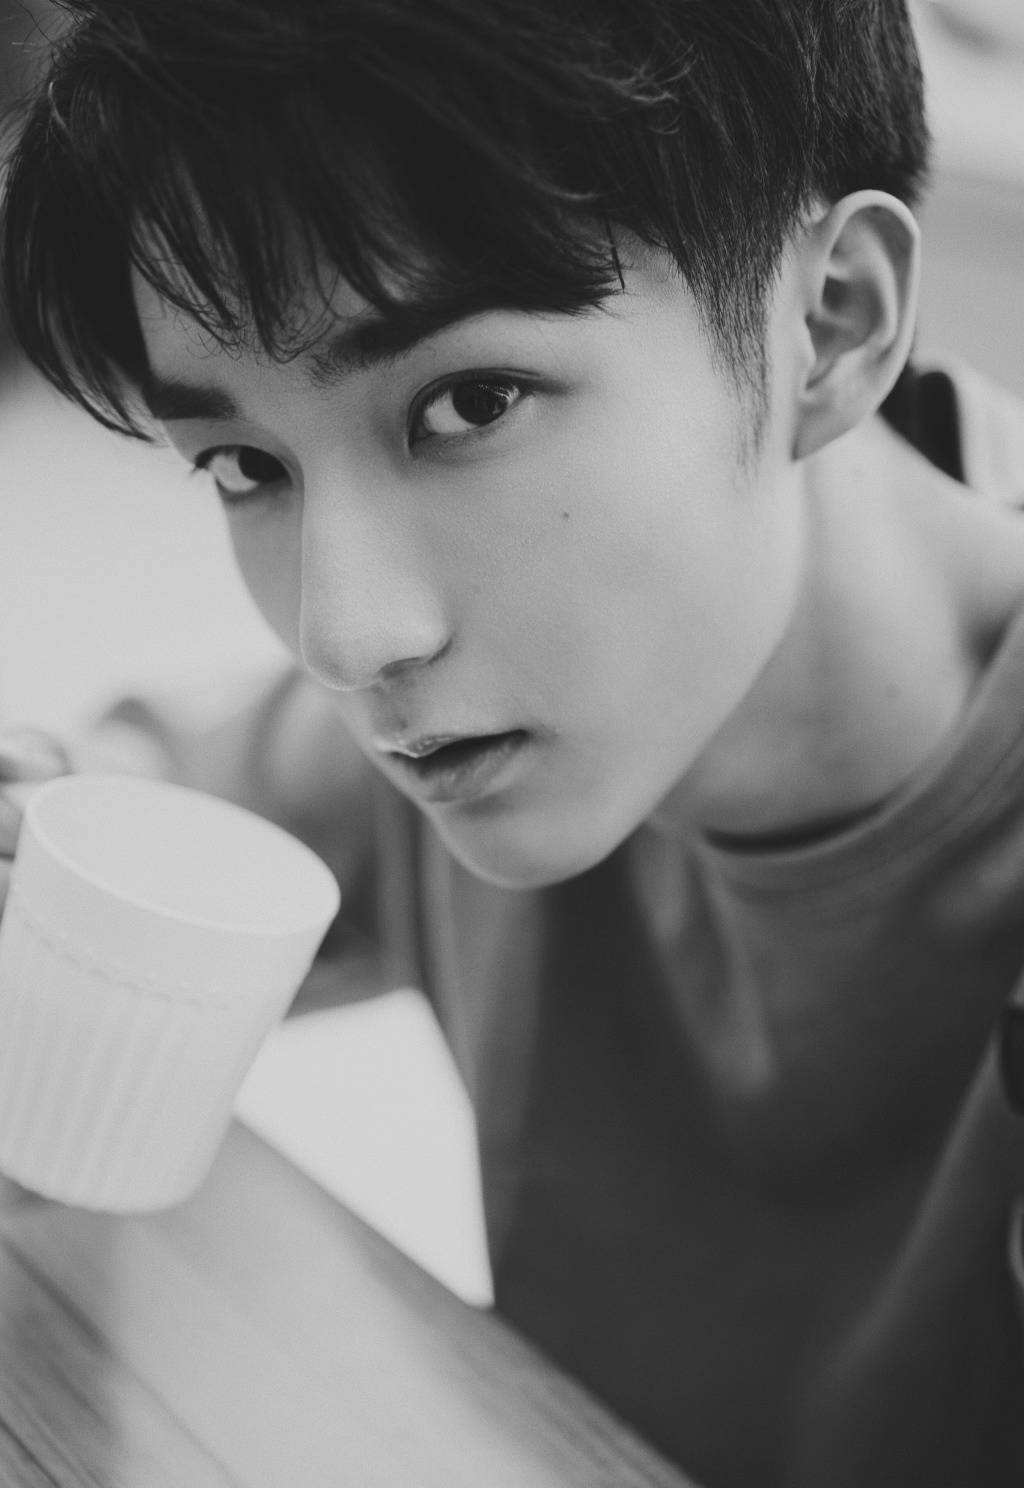person: (19, 51, 965, 1256)
